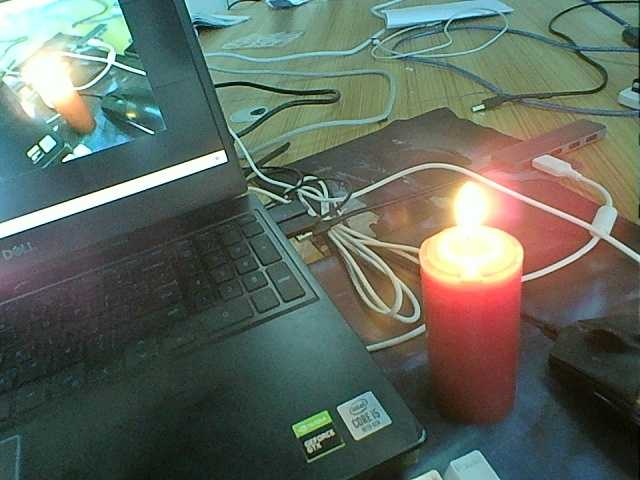candle: (415, 243, 536, 432), (53, 97, 99, 147)
fire: (426, 169, 509, 272), (26, 54, 80, 104)
